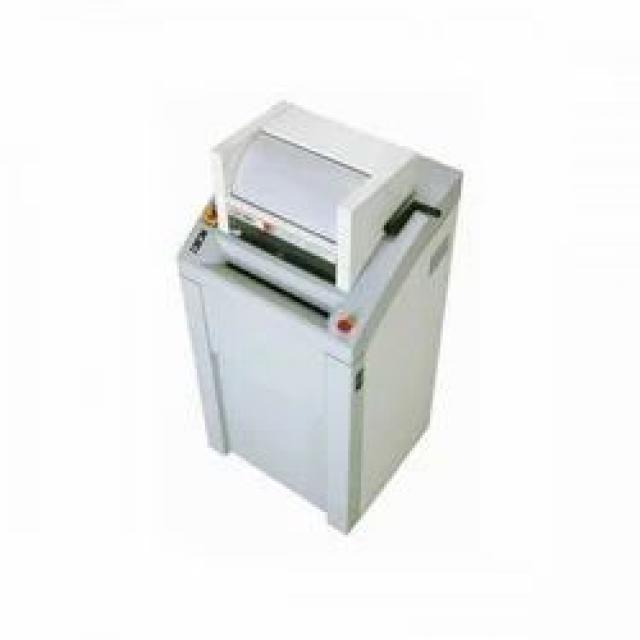palette: (174, 91, 468, 548)
